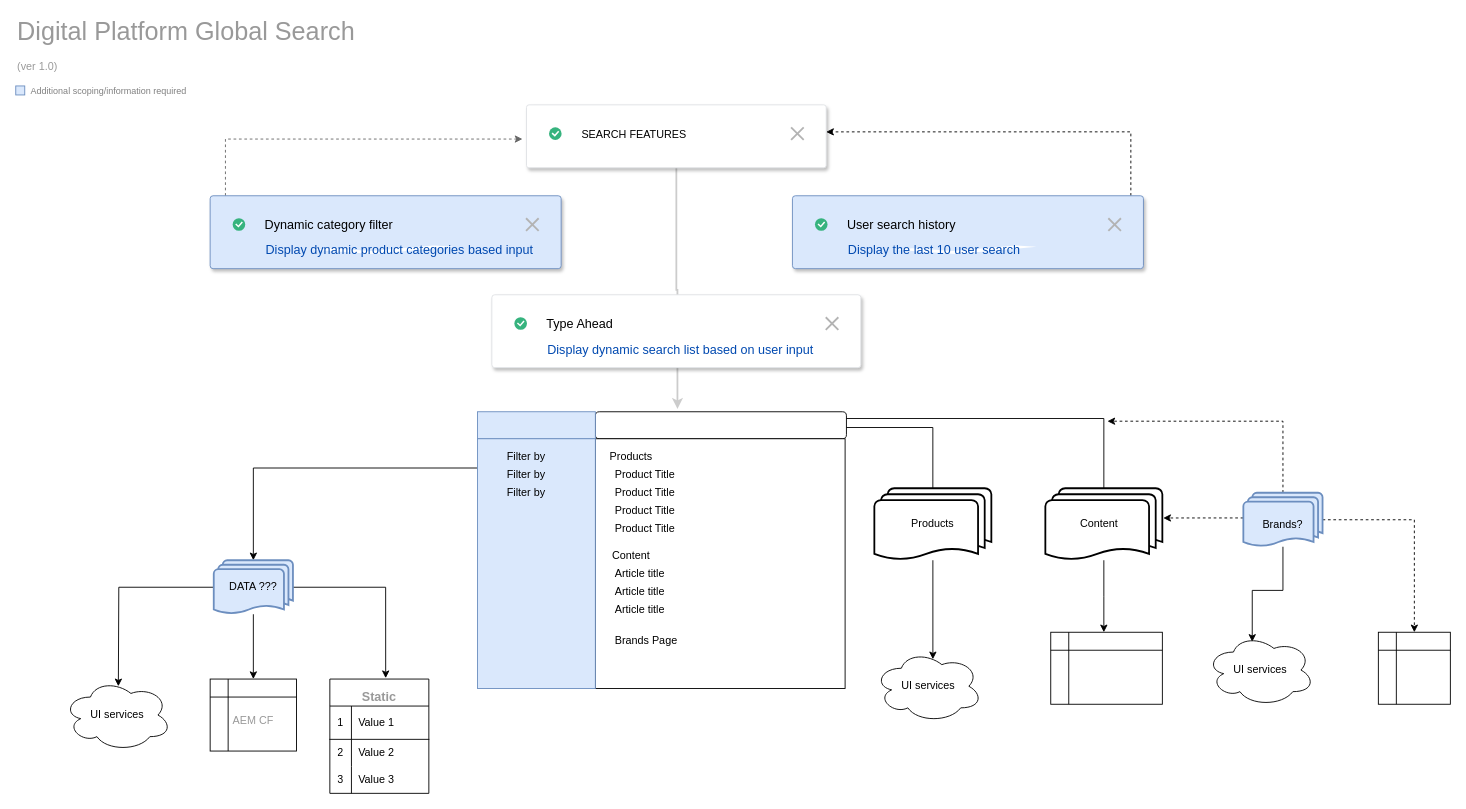
The diagram is 1466 pixels wide and 809 high, and some of its shapes have lost their labels. Here are the shapes that lost their labels. From the top down, the centre of each, then its label:
pixel 536 425: Filter Search
pixel 720 425: Search our site
pixel 1106 667: AEM site structure
pixel 1413 667: AEM
